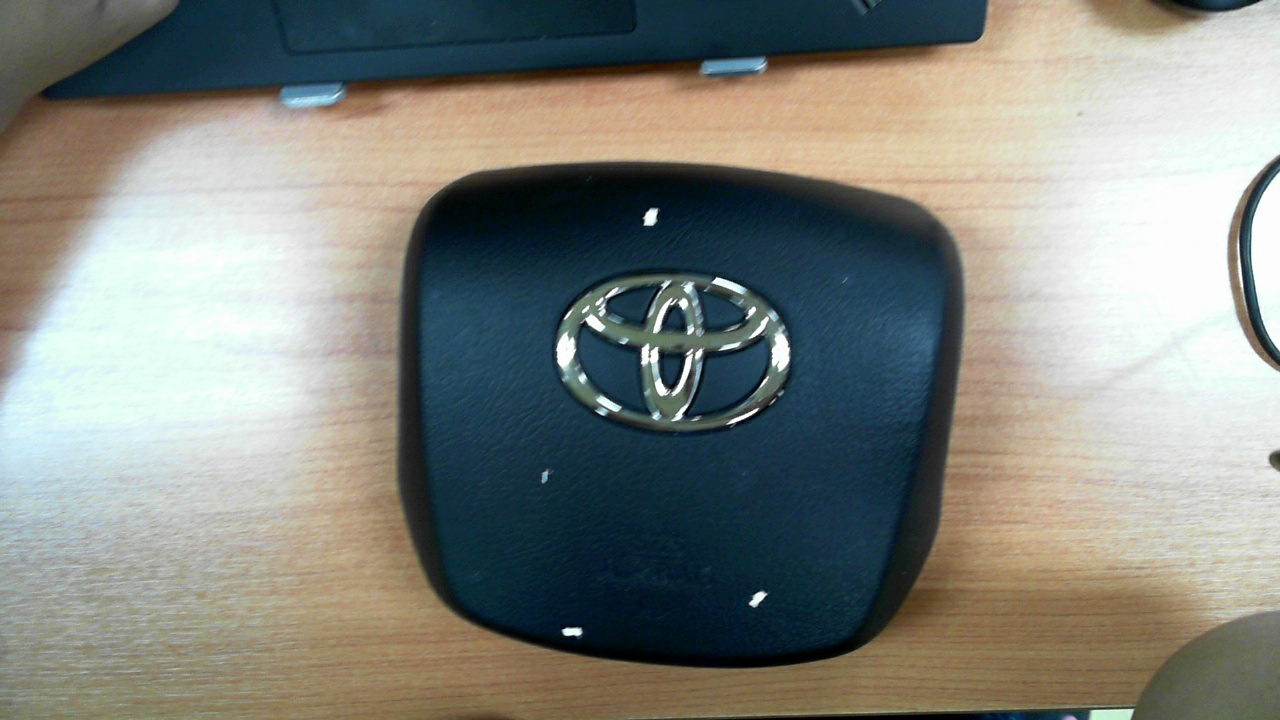Airbag: (396, 162, 963, 667)
Mark: (748, 590, 768, 608), (642, 207, 658, 226), (562, 627, 583, 637), (541, 468, 549, 484), (841, 277, 849, 284)
